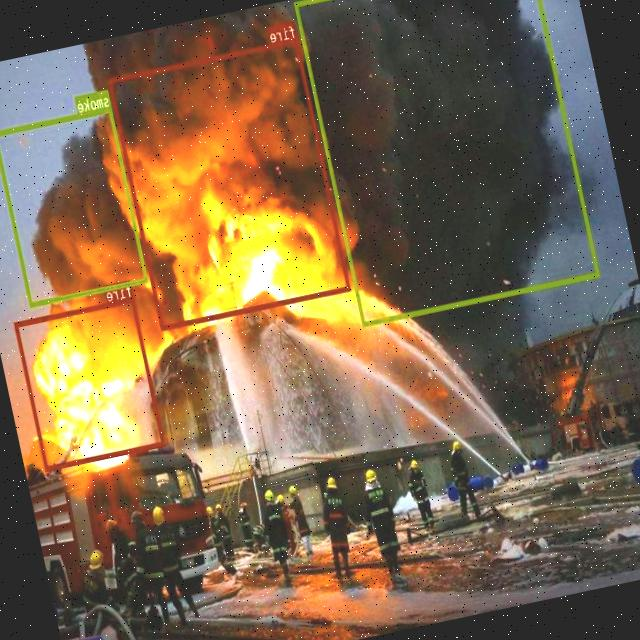fire: (108, 37, 351, 330), (14, 297, 165, 470)
smoke: (294, 0, 600, 325), (0, 106, 148, 306)
